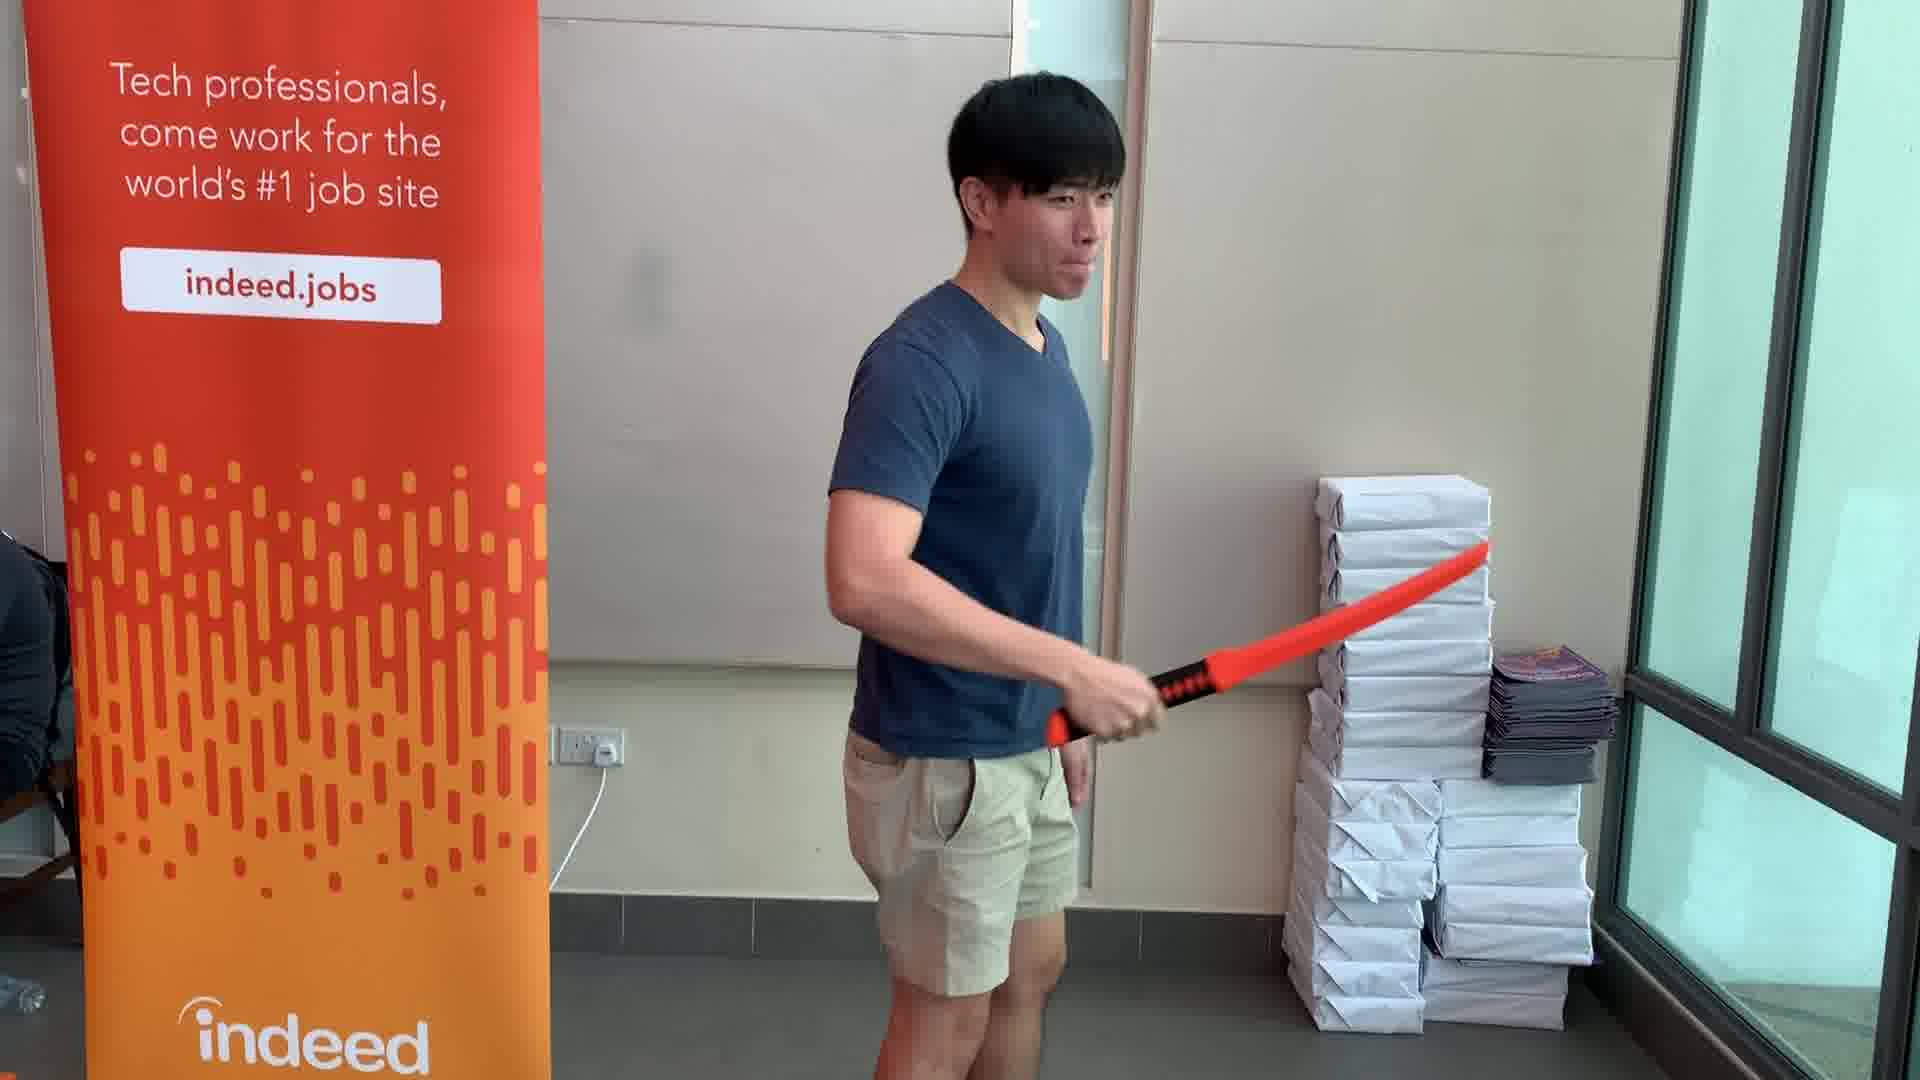knife: (1036, 531, 1495, 760)
